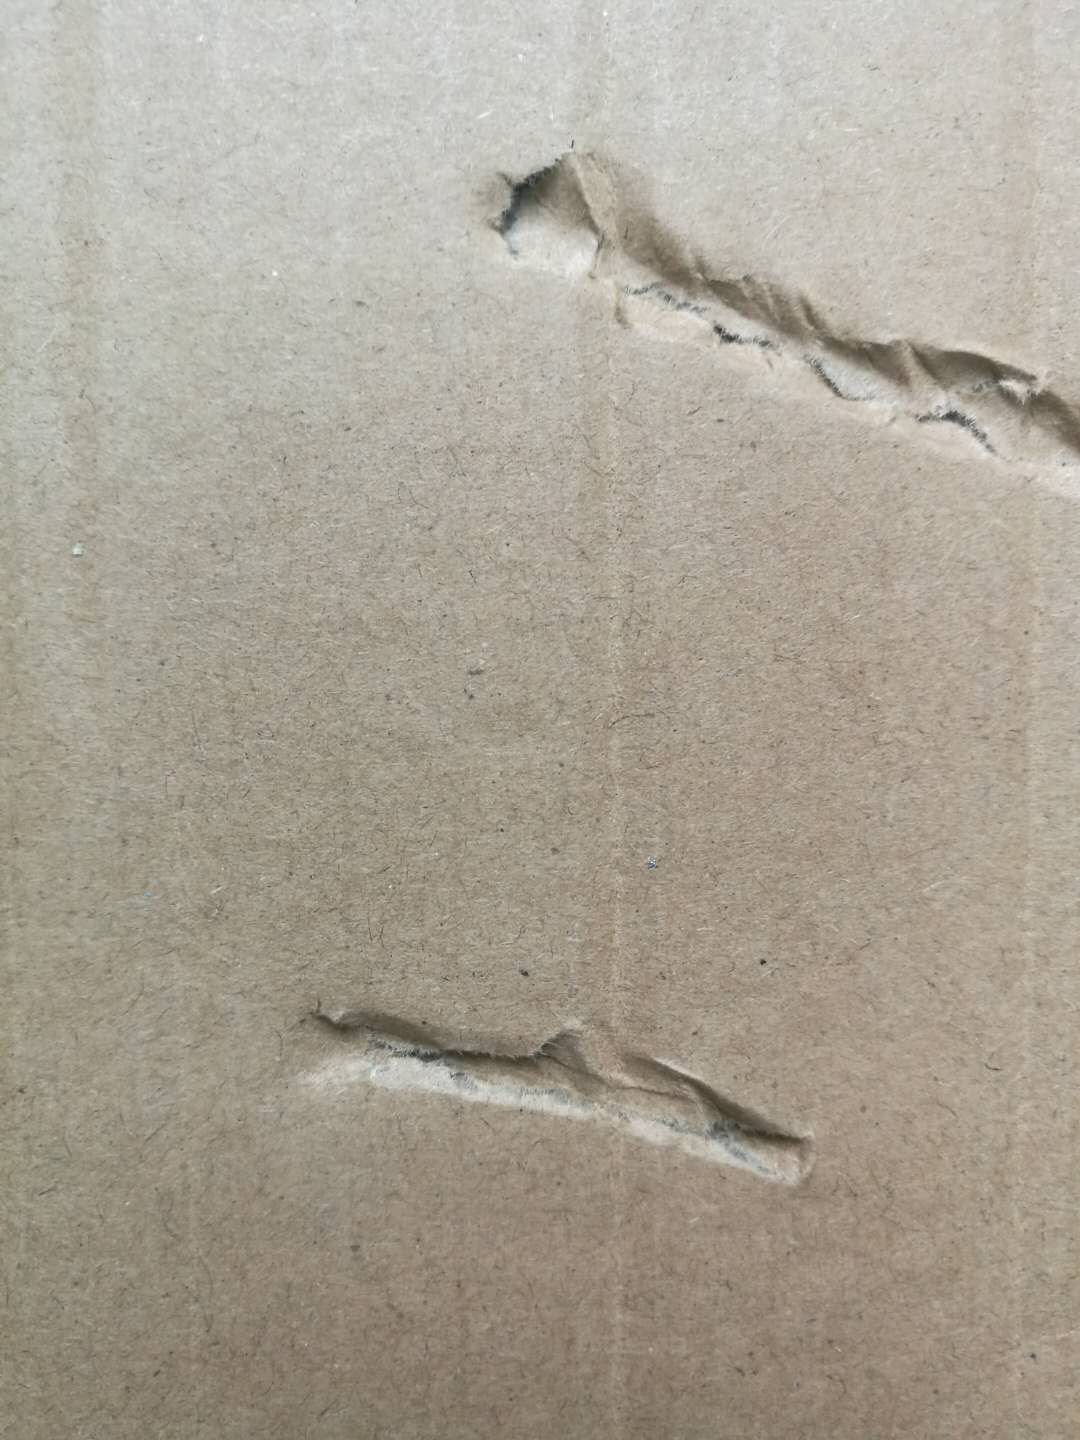defect: (454, 102, 1080, 535), (532, 1, 703, 1440), (269, 948, 855, 1228), (986, 1, 1079, 1440)
